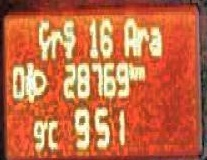0: (11, 60, 24, 100)
1: (88, 13, 98, 58), (117, 105, 125, 147)
2: (62, 60, 75, 98)
5: (93, 105, 109, 147)
6: (99, 14, 113, 56), (103, 60, 114, 96)
7: (88, 58, 101, 96)
8: (75, 58, 89, 96)
9: (73, 102, 89, 147), (115, 58, 127, 96), (33, 118, 44, 149)
X: (61, 16, 76, 58), (122, 14, 136, 54), (37, 16, 50, 58), (147, 23, 161, 54), (136, 20, 147, 54), (50, 25, 61, 58), (48, 116, 58, 149), (127, 58, 135, 80), (135, 62, 145, 78)
